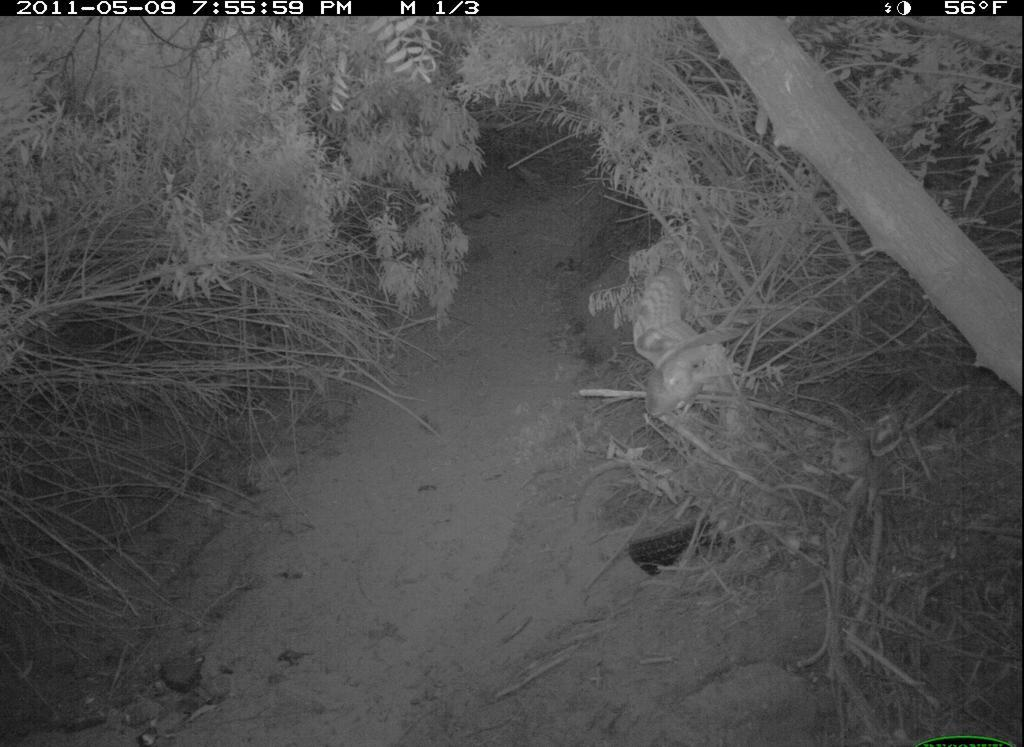bird: (625, 257, 762, 434)
